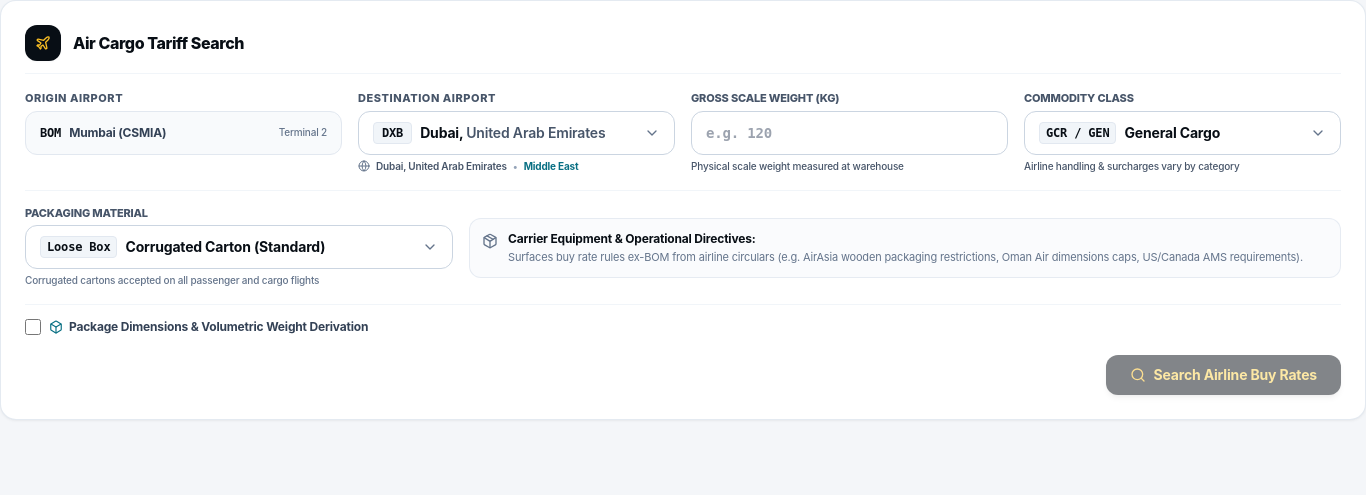
it: RateSearchForm flexible weight and dimensions entry › disables submit and shows alert when weight exceeds 500 kg desk ceiling
Type "520" into the number field labelled "Gross Scale Weight (kg)" at {"x": 850, "y": 132}, box [691,110,1008,154]
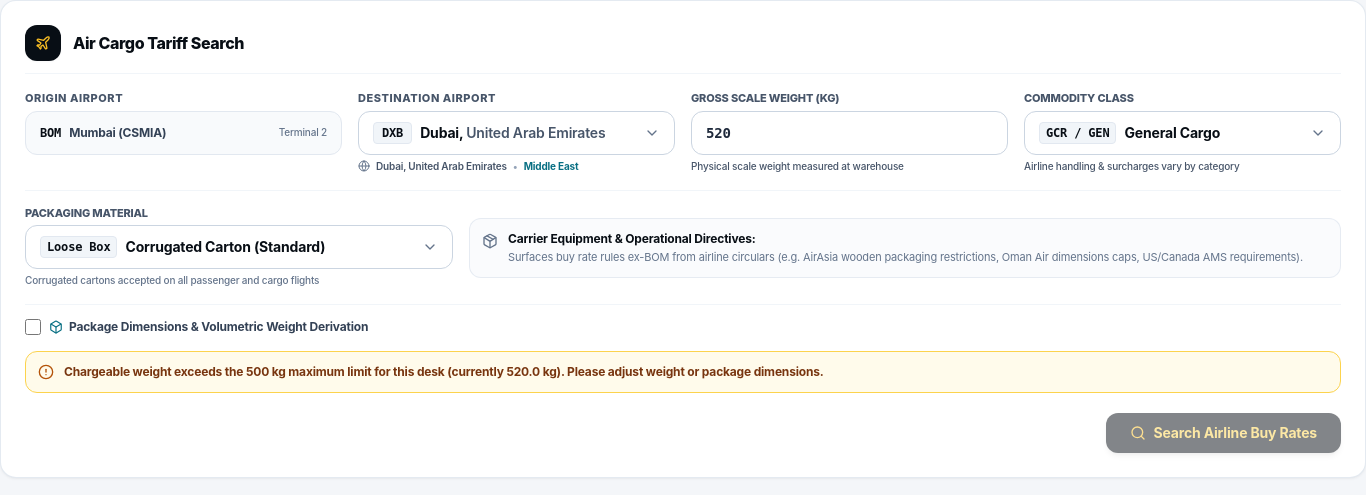
Expected: the button "Search Airline Buy Rates" is disabled, [1106,413,1341,453]
Expected: the text "Chargeable weight exceeds the 500 kg maximum limit" is shown, [64,364,506,379]
